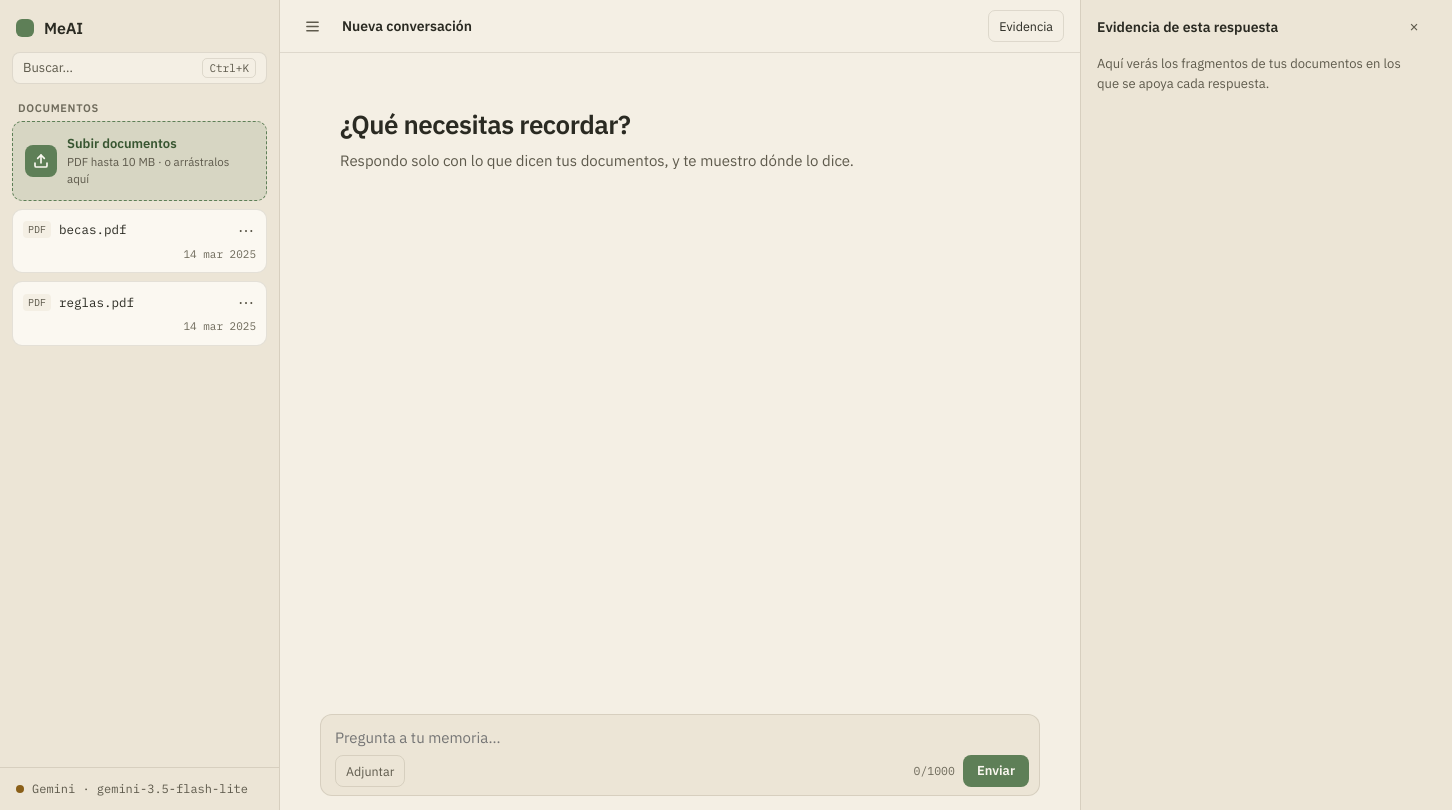
an answer with sources ends with numbered chips and fills the evidence panel
The image size is (1452, 810).
Check: the element "becas.pdf" is shown, box [12,208,267,273]
Type "¿Cuándo se presenta?" into the text box named "Escribe tu pregunta".
click(682, 738); type("¿Cuándo se presenta?")  # box [335,724,1029,751]
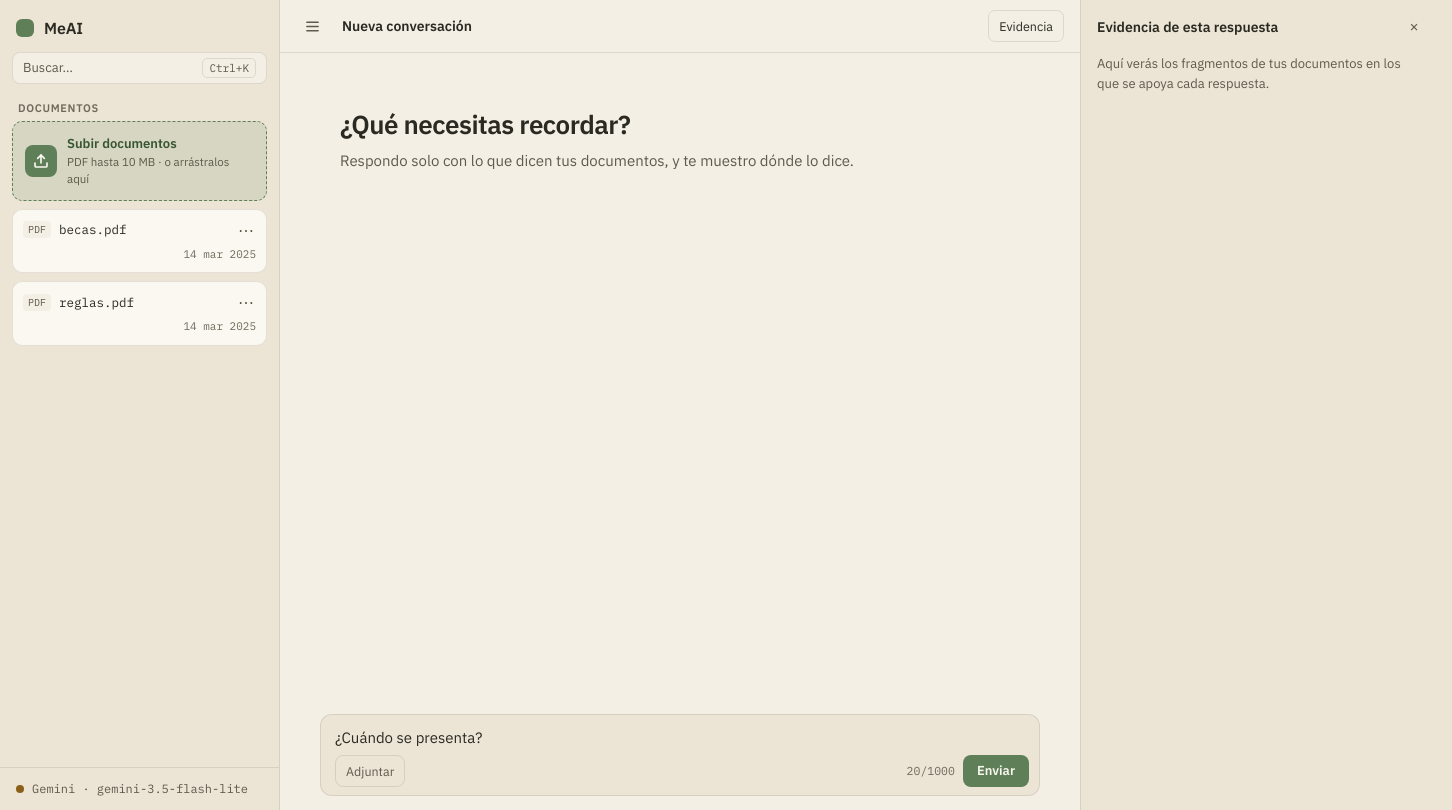
Click the button with aria-label "Enviar pregunta".
click(996, 771)  # box [963,755,1029,787]
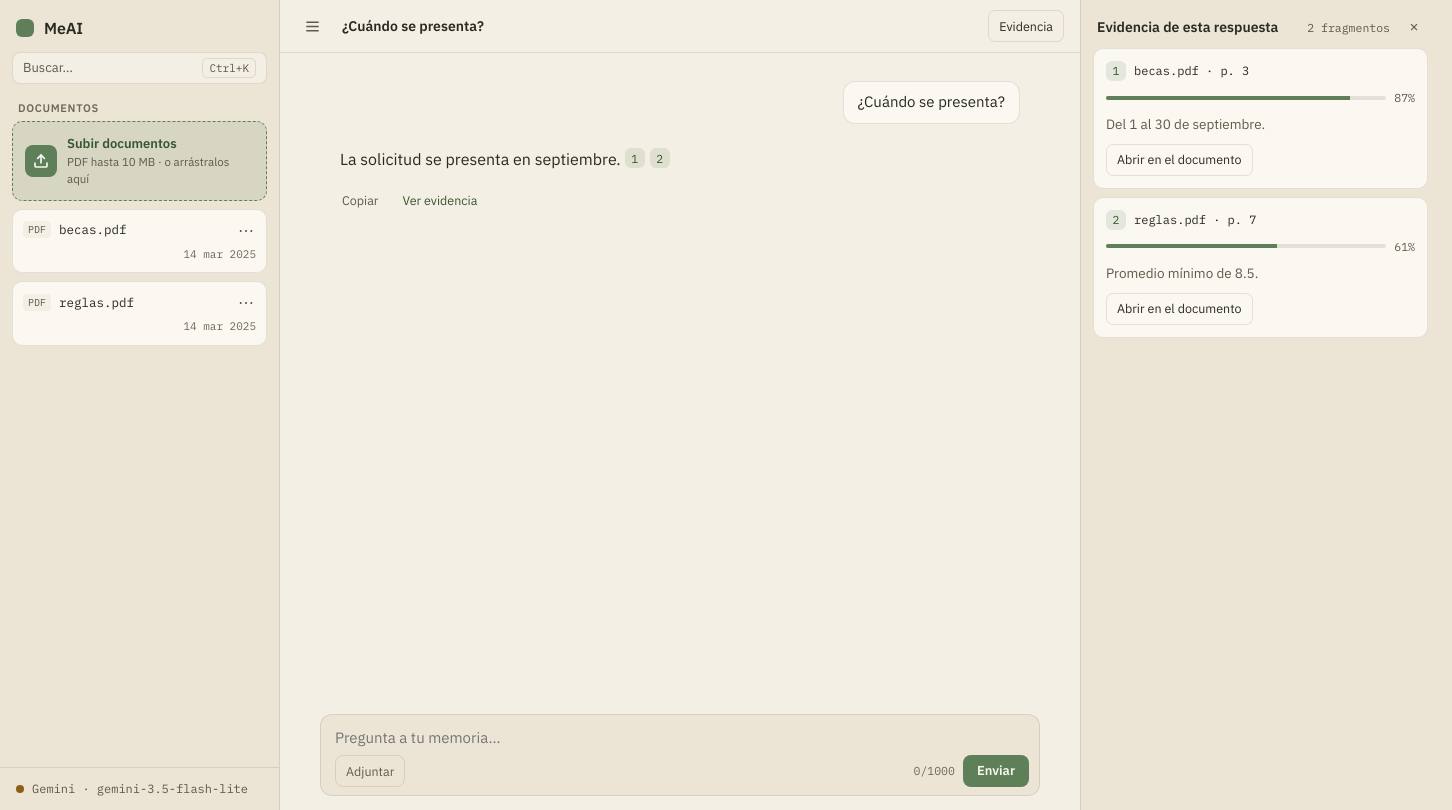
Check: the text "La solicitud se presenta en septiembre." is shown, box [340,148,621,168]
Check: the button named "Fuente 1: becas.pdf, página 3" reads "1", box [625,148,645,168]
Check: the text "2 fragmentos" is shown, box [1307,19,1390,36]
